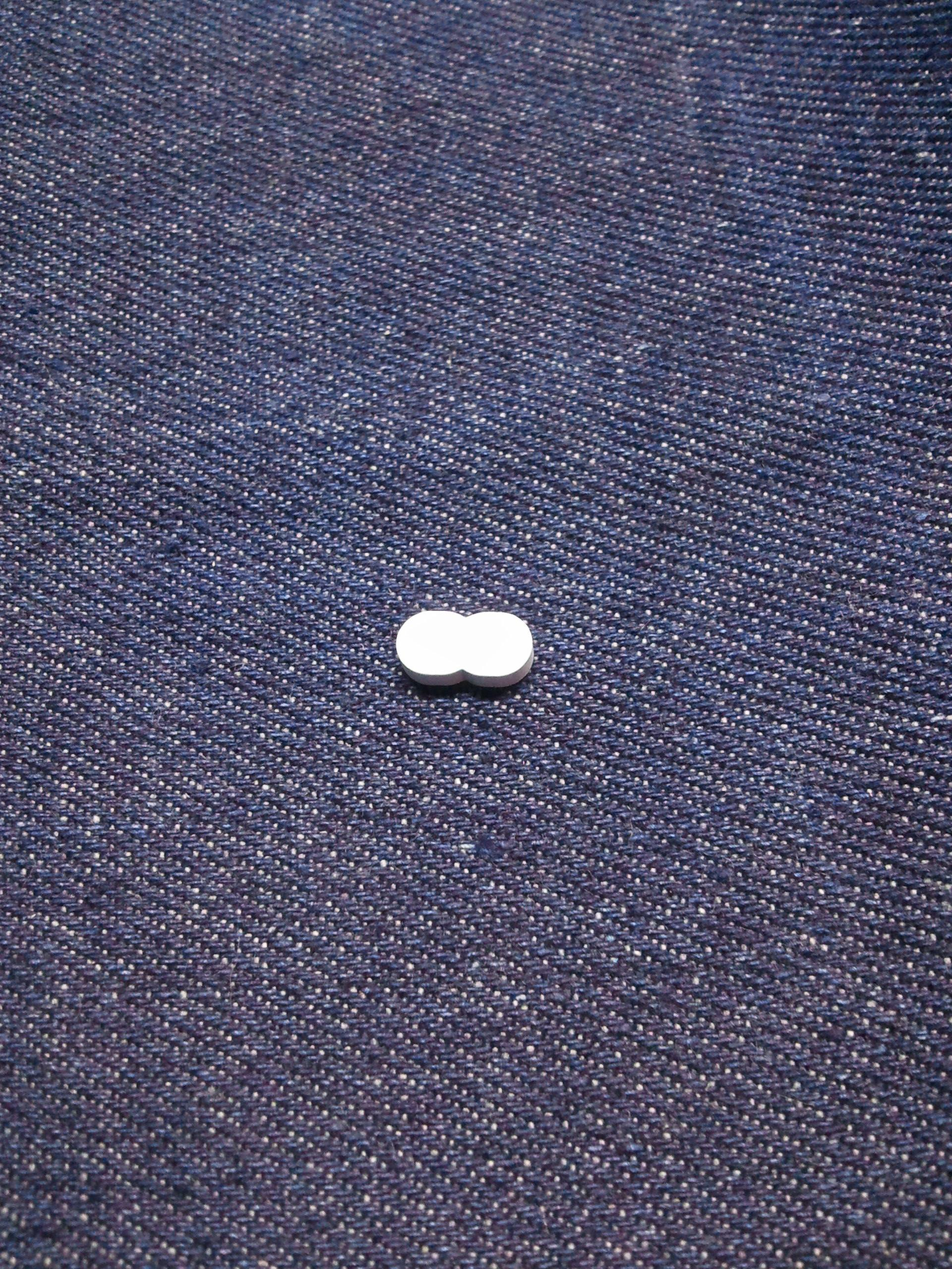Pill: (364, 580, 564, 709)
